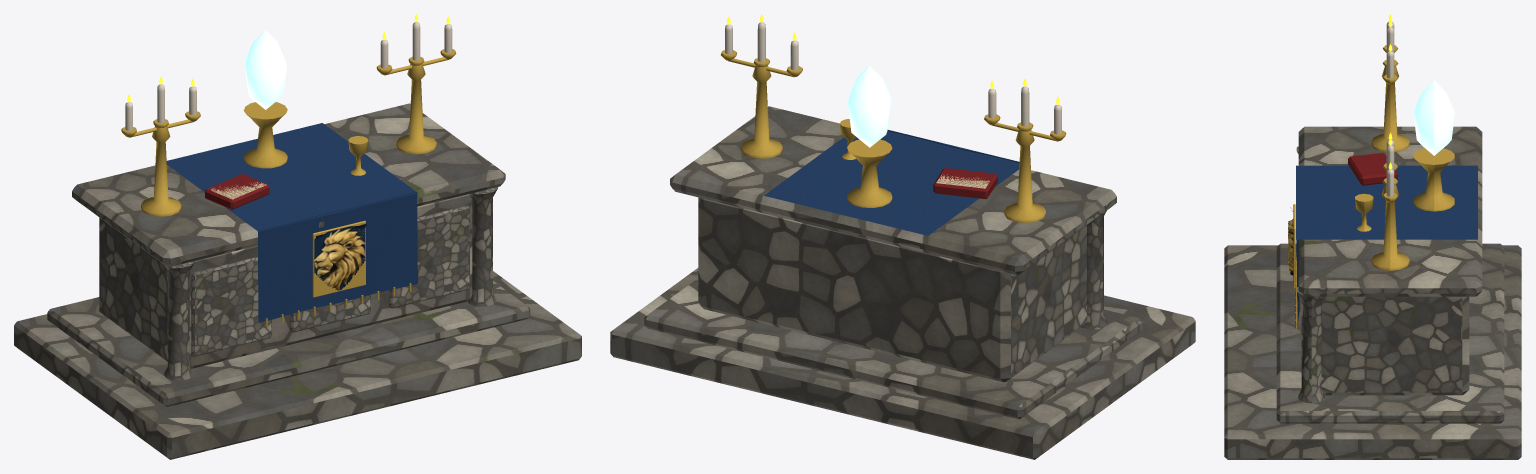
File: altar.glb
3 views of the same model, side by side, from view 1: azimuth 30°, elevation 25°; view 2: azimuth 150°, elevation 25°; view 3: azimuth 270°, elevation 25° (orthographic). The views are drawn at different scales.
Parts seen in each view (by area): view 1: altar; view 2: altar; view 3: altar.
Part boxes in pixels (x1,y1,x2,y2): altar: [14, 14, 581, 459]; altar: [610, 14, 1195, 459]; altar: [1224, 14, 1521, 459].
Size of the model in its own units: 2.6 by 1.81 by 1.7.
Materials: 1 (1 with a texture image).
